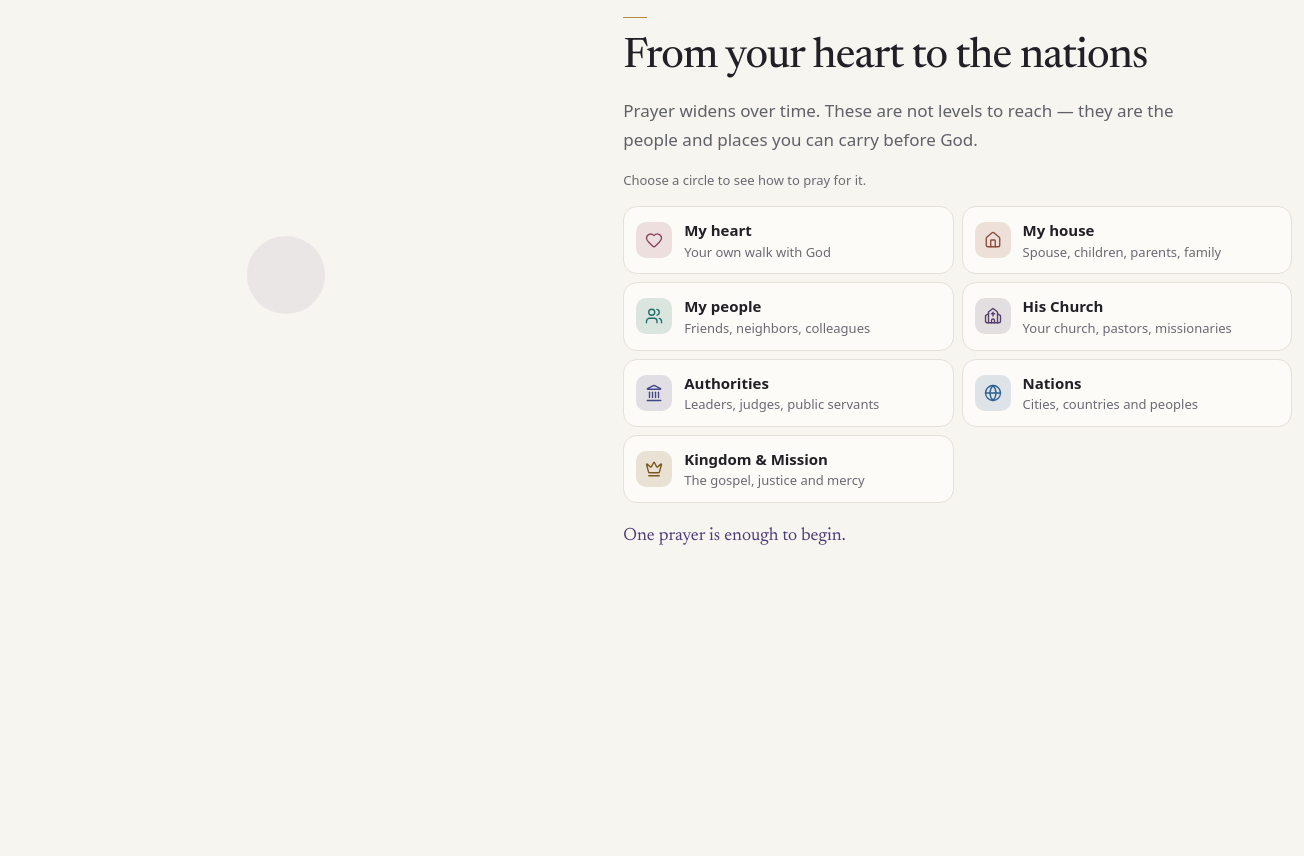
Test: LandingCircles › opens the chosen circle’s teaching beneath, without leaving the page
The width and height of the screenshot is (1304, 856).
What coordinates should you click on to do the following:
click the button "My house Spouse, children, parents, family"
I would click on:
 (1127, 240)
Its box is [962,206,1292,274].
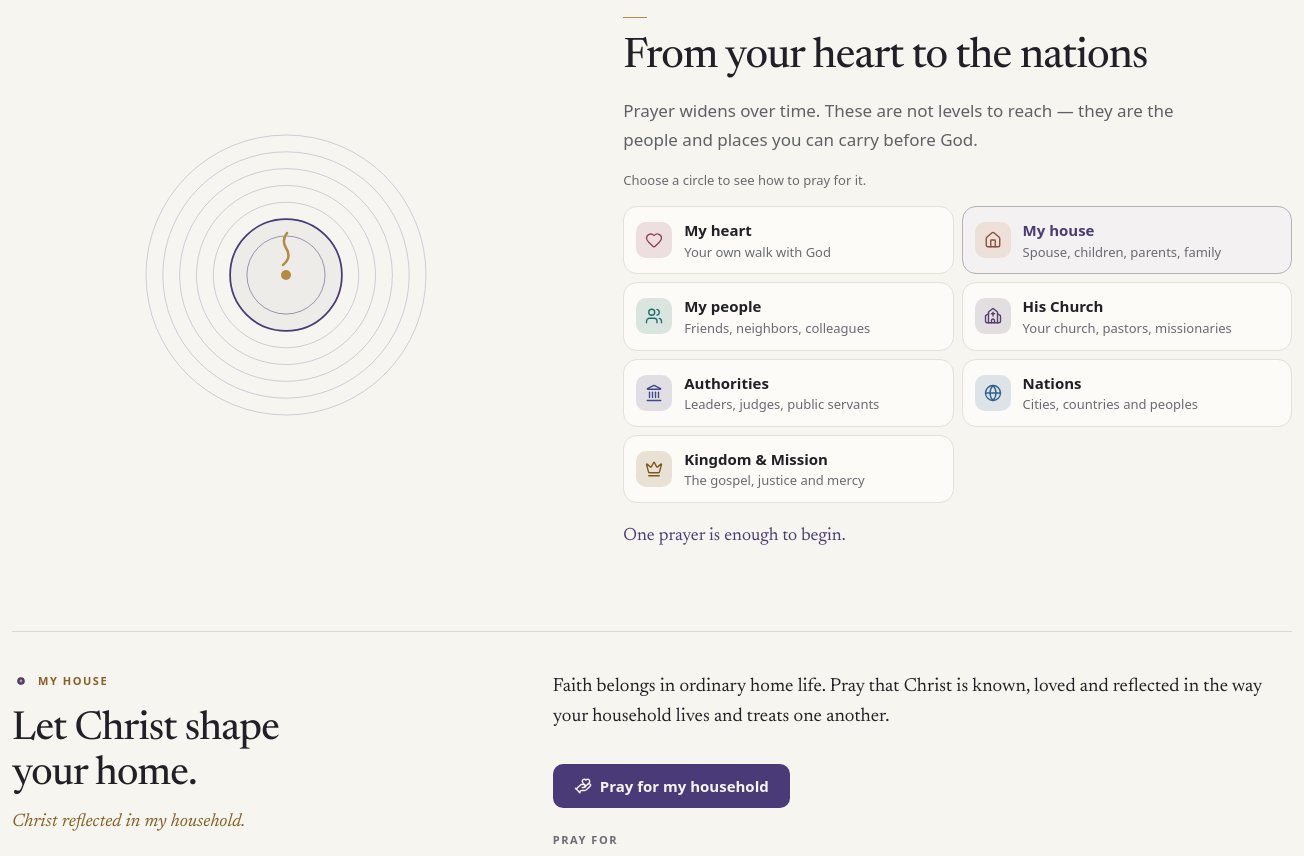
Check: the heading "Let Christ shape your home." is shown, box [12,710,279,795]
Check: the text "Christ reflected in my household." is shown, box [12,813,245,831]
